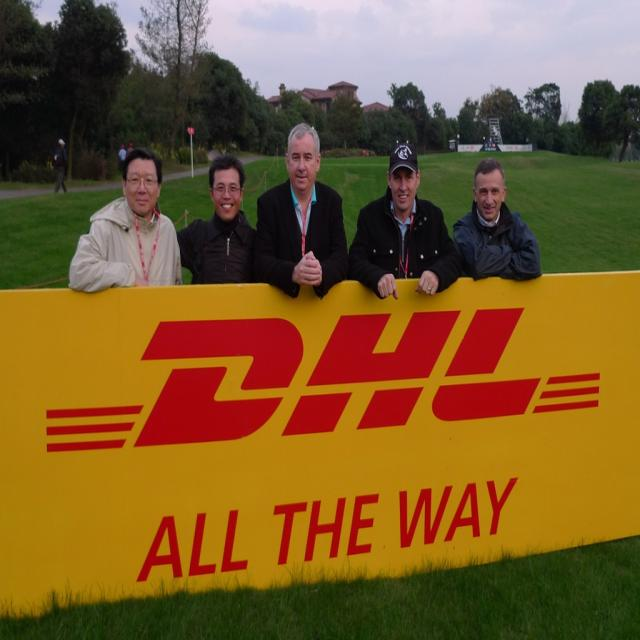dhl: (42, 302, 619, 458)
